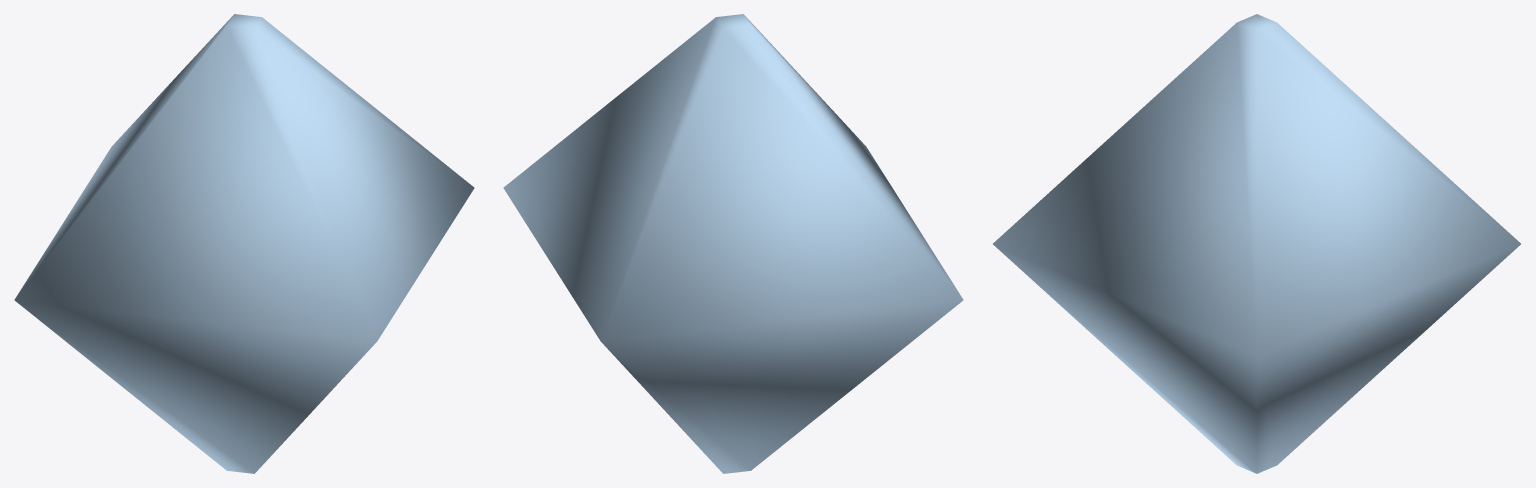
File: chrysoberyl.glb
3 views of the same model, side by side, from view 1: azimuth 30°, elevation 25°; view 2: azimuth 150°, elevation 25°; view 3: azimuth 270°, elevation 25° (orthographic).
Visible parts, largest first — view 1: chrysoberyl; view 2: chrysoberyl; view 3: chrysoberyl.
Part boxes in pixels (x1,y1,x2,y2): chrysoberyl: [14, 14, 474, 473]; chrysoberyl: [503, 14, 963, 473]; chrysoberyl: [993, 14, 1520, 473].
Size of the model in its own units: 1.73 by 1.6 by 1.73.
